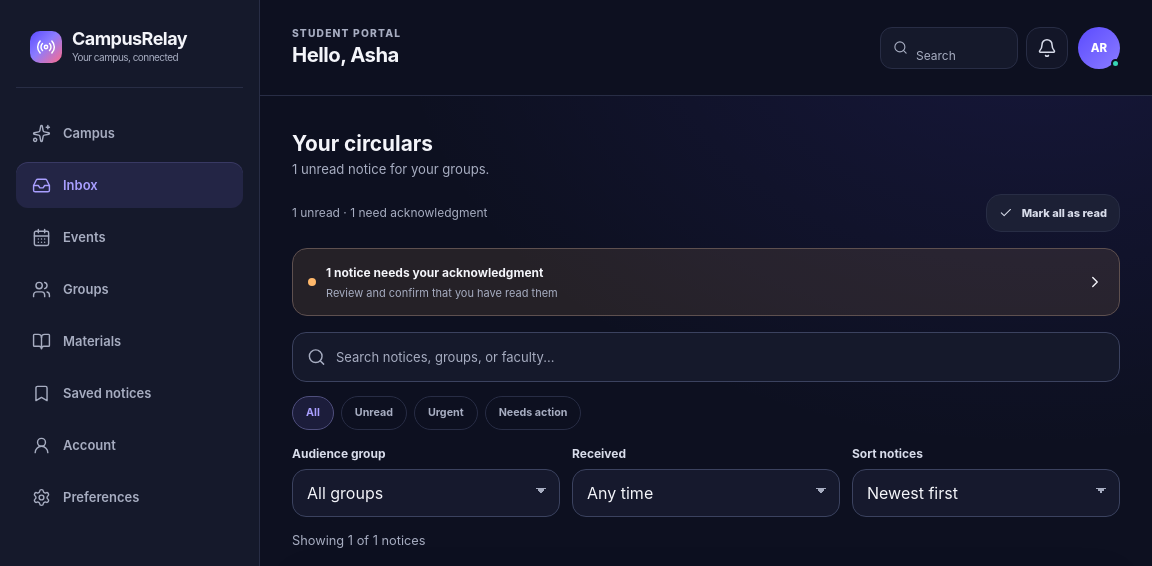
Test: StudentPortal Tier 2 controls › keeps notices unread and enables retry if marking all fails
The image size is (1152, 566).
Click the button "Mark all as read" at (1053, 213), box [986,194,1120,232]
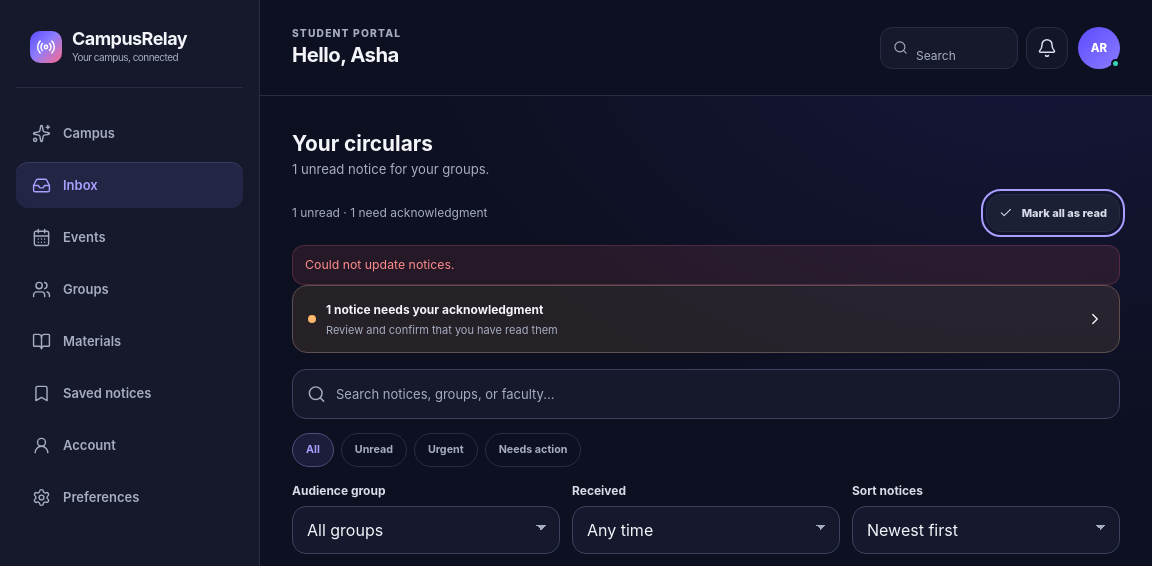
Now the message reads "Could not update notices.", box [305,257,454,272]
